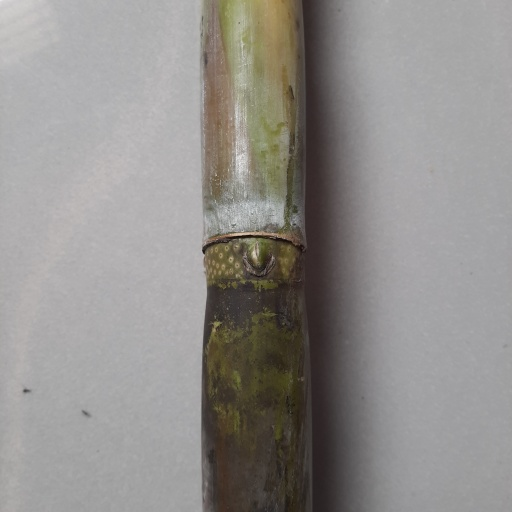Bud: (242, 240, 273, 275)
